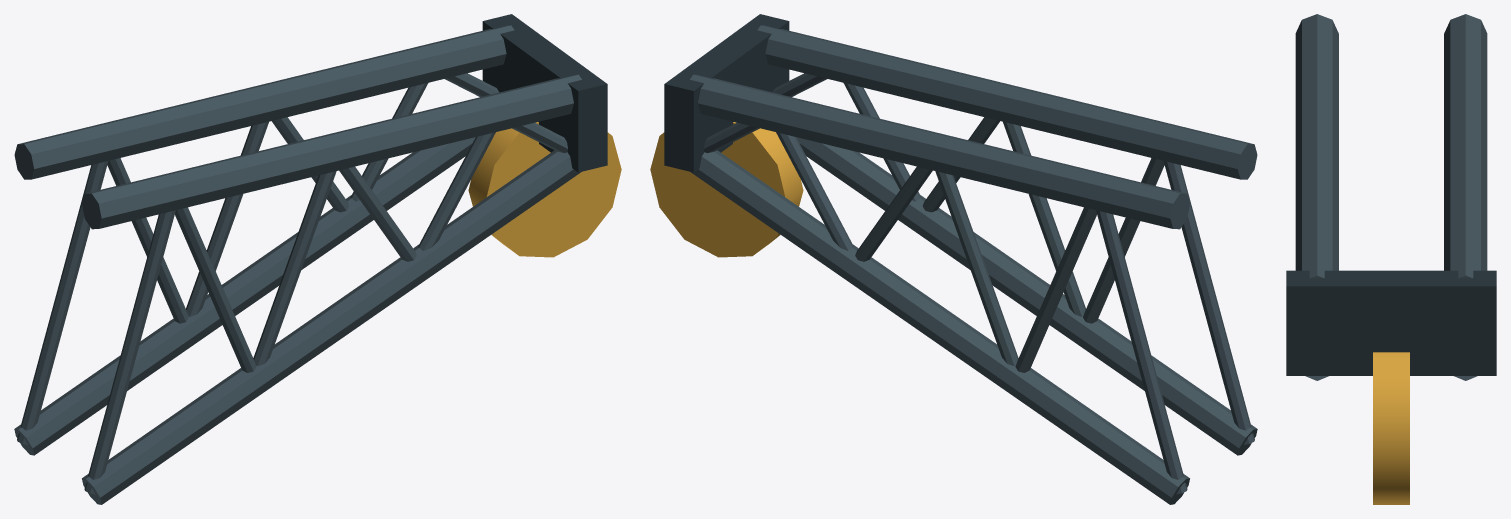
Rendered from rt_pylon_arm.glb.
The picture shows the model from 3 angles, left to right: view 1: azimuth 30°, elevation 25°; view 2: azimuth 150°, elevation 25°; view 3: azimuth 270°, elevation 25°; orthographic projection. The views are drawn at different scales.
Parts seen in each view (by area): view 1: rt_pylon_arm_body; view 2: rt_pylon_arm_body; view 3: rt_pylon_arm_body.
Part boxes in pixels (x1,y1,x2,y2): rt_pylon_arm_body: [14, 14, 621, 504]; rt_pylon_arm_body: [650, 14, 1257, 504]; rt_pylon_arm_body: [1286, 14, 1496, 504].
Bounding box in the file's own units: 1.15 × 0.6126 × 0.34.
